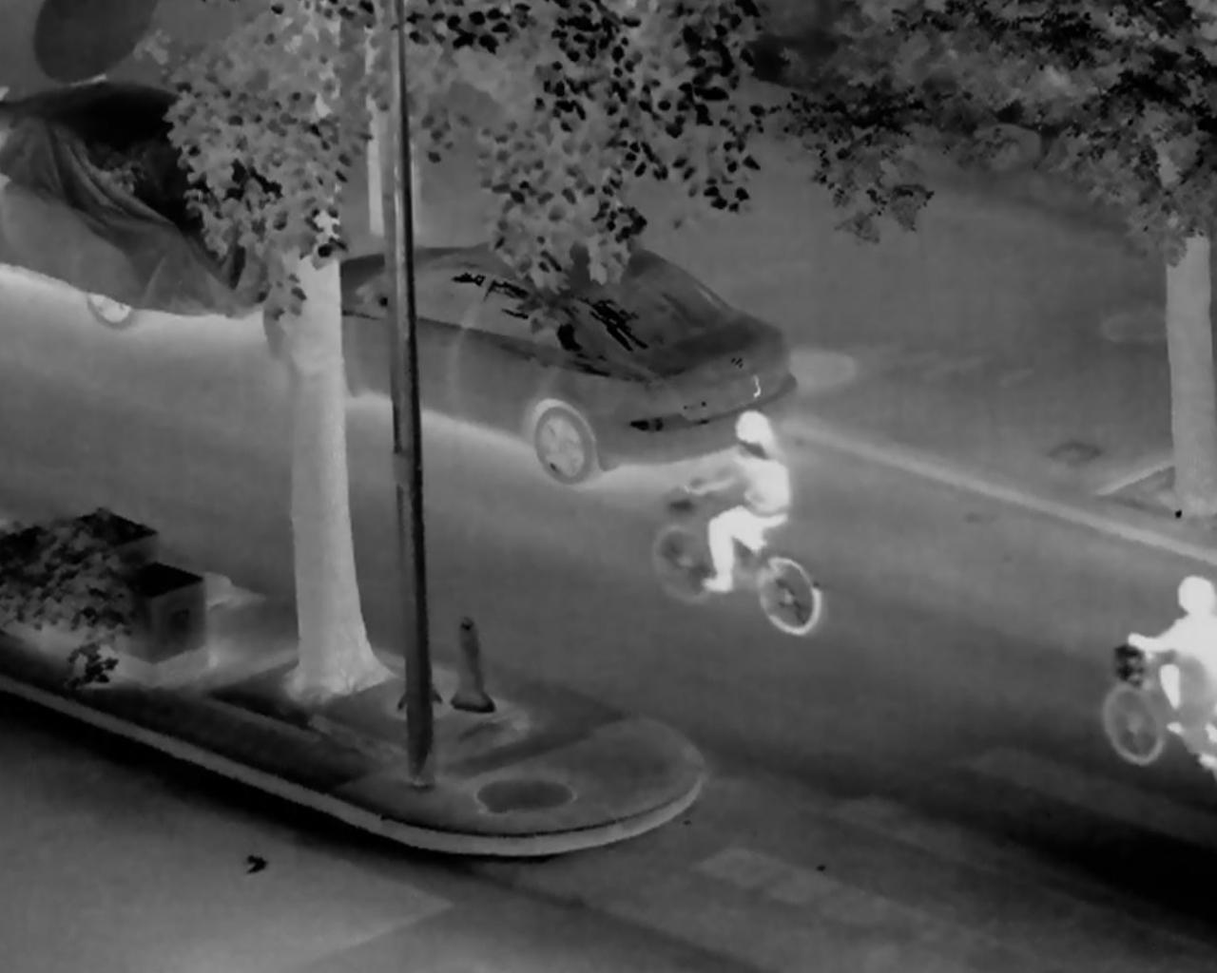person: (687, 410, 789, 597), (1127, 576, 1217, 743)
